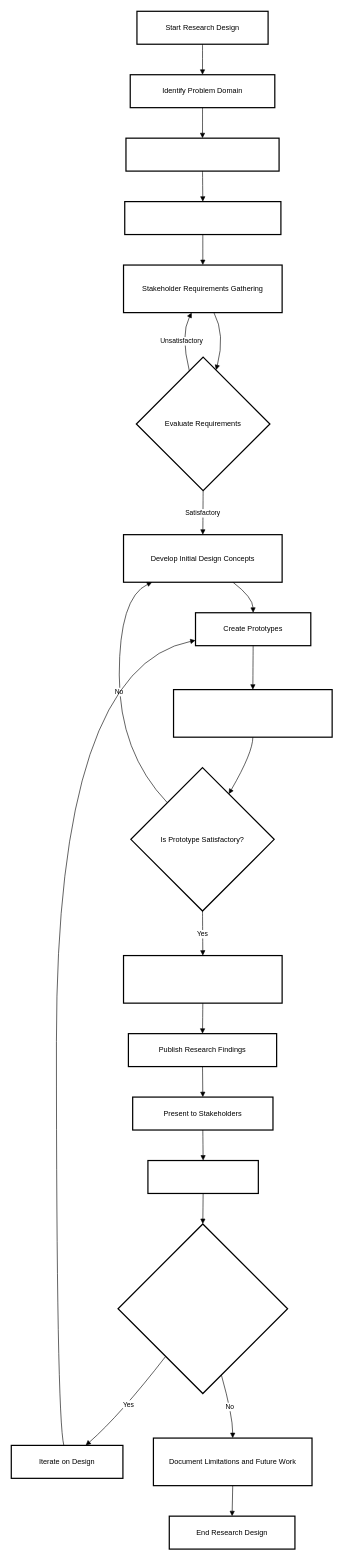
This 343x1560 diagram has some shape labels left out. Here are the shapes that lost their labels. From the top down, the centre of each, then its label:
At pixel 202 154: "Conduct Literature Review".
At pixel 202 218: "Define Research Objectives".
At pixel 252 713: "Conduct Iterative Testing and Evaluation".
At pixel 202 979: "Final Design and Documentation".
At pixel 203 1177: "Obtain Feedback".
At pixel 202 1308: "Is Feedback Implementable?".
